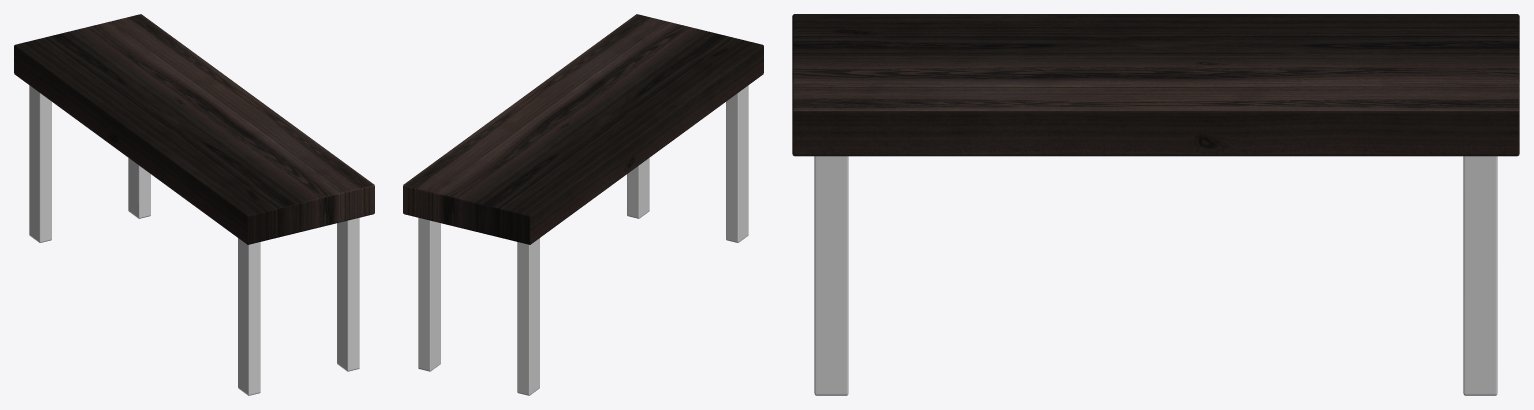
Rendered from brown_table_2.glb.
3 views of the same model, side by side, from view 1: azimuth 30°, elevation 25°; view 2: azimuth 150°, elevation 25°; view 3: azimuth 270°, elevation 25° (orthographic). The views are drawn at different scales.
Visible parts, largest first — view 1: Table.002, Plane.049; view 2: Table.002, Plane.049; view 3: Table.002, Plane.049.
Part boxes in pixels (x1,y1,x2,y2): Table.002: [14, 14, 374, 244]; Plane.049: [29, 85, 359, 395]; Table.002: [403, 14, 763, 244]; Plane.049: [418, 85, 748, 395]; Table.002: [792, 14, 1519, 156]; Plane.049: [814, 156, 1497, 395].
Size of the model in its own units: 0.7756 by 1.09 by 2.46.
2 materials, 1 textured.
